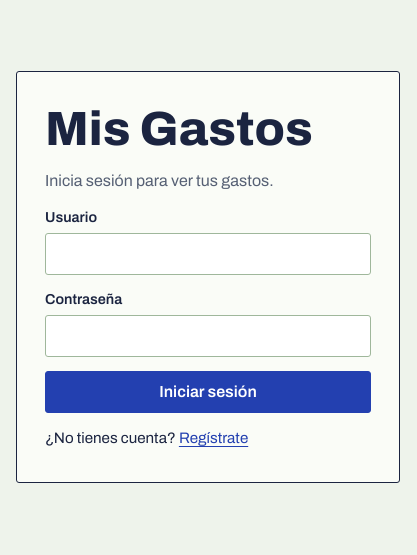
it: LoginPage: too many attempts (429) › still explains the wait when Retry-After is missing
Step 1. Type "ana" into the field labelled "Usuario" → [208, 254], box [45,233,371,275]
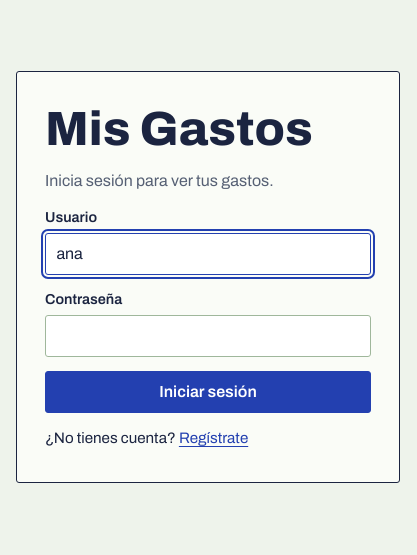
Step 2. Type "secreto-123" into the password field labelled "Contraseña" → [208, 336], box [45,315,371,357]
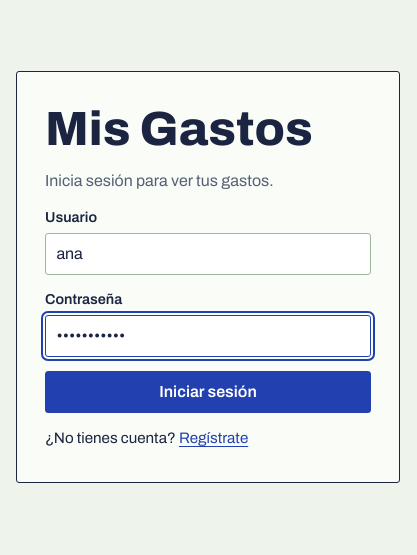
Step 3. Click the button "Iniciar sesión" → [208, 392], box [45,371,371,413]
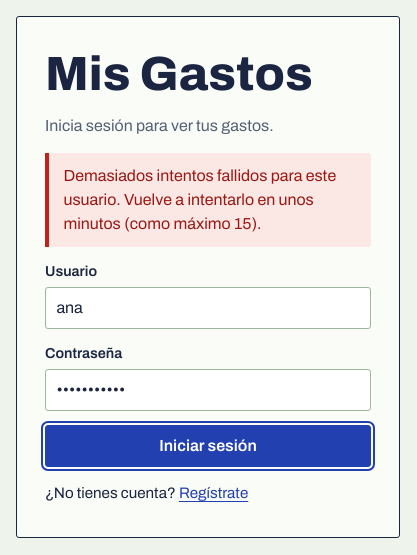
Expected: the message shows "Demasiados intentos fallidos para este usuario. Vuelve a intentarlo en unos minutos (como máximo 15).", [63,167,336,232]
